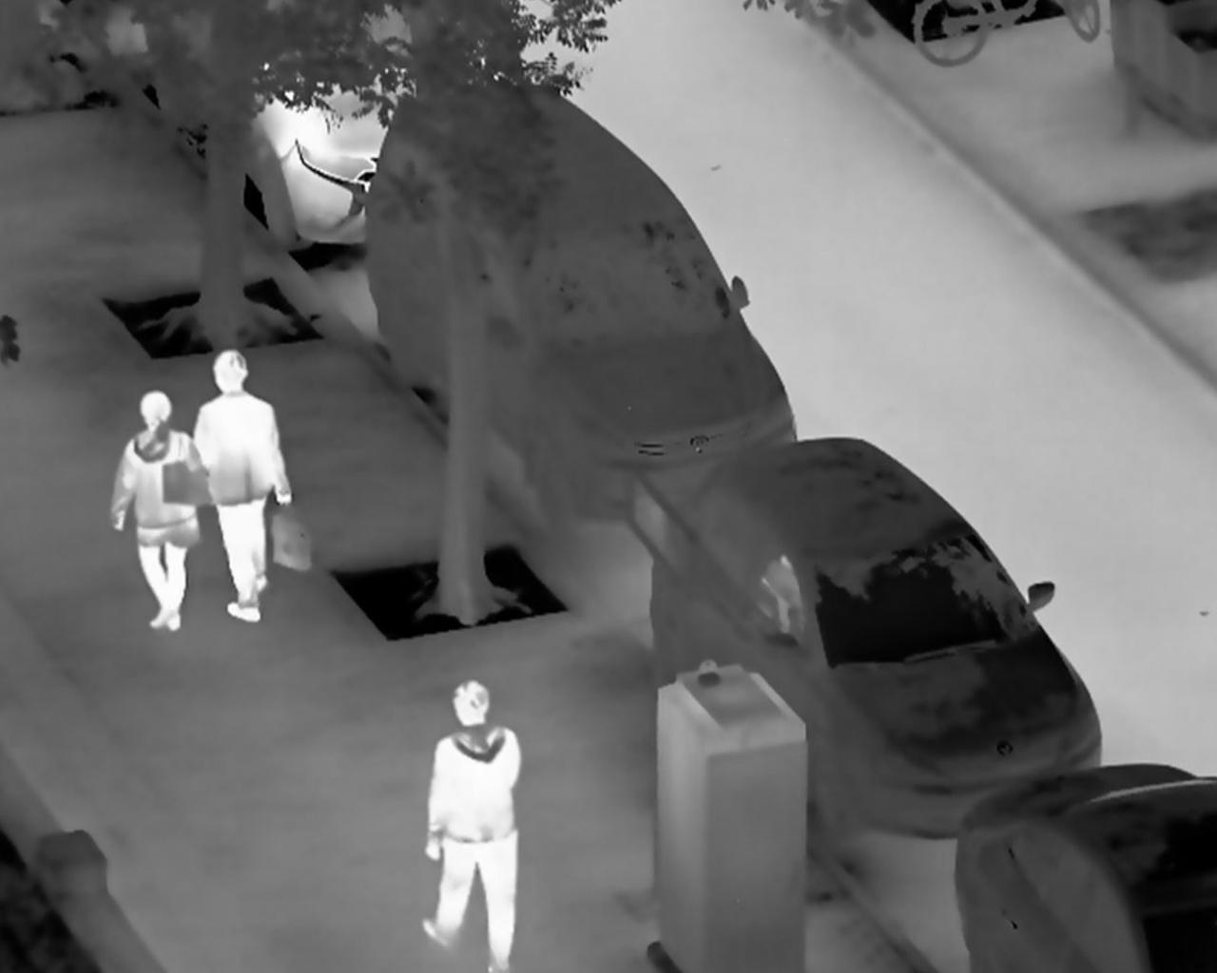person: (422, 677, 526, 973), (189, 347, 296, 624), (109, 388, 205, 633)
